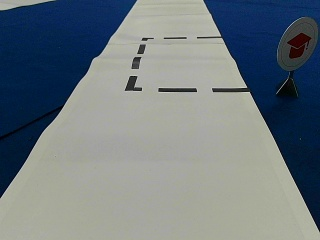school: (276, 17, 316, 70)
